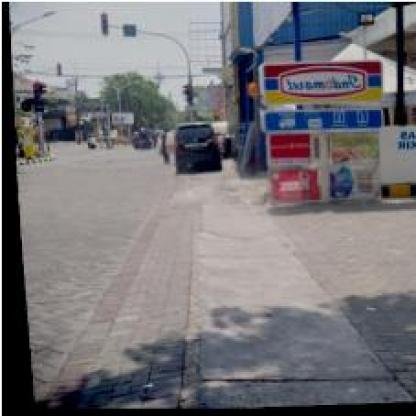red: (182, 84, 192, 106), (98, 14, 107, 34), (29, 82, 37, 104)
